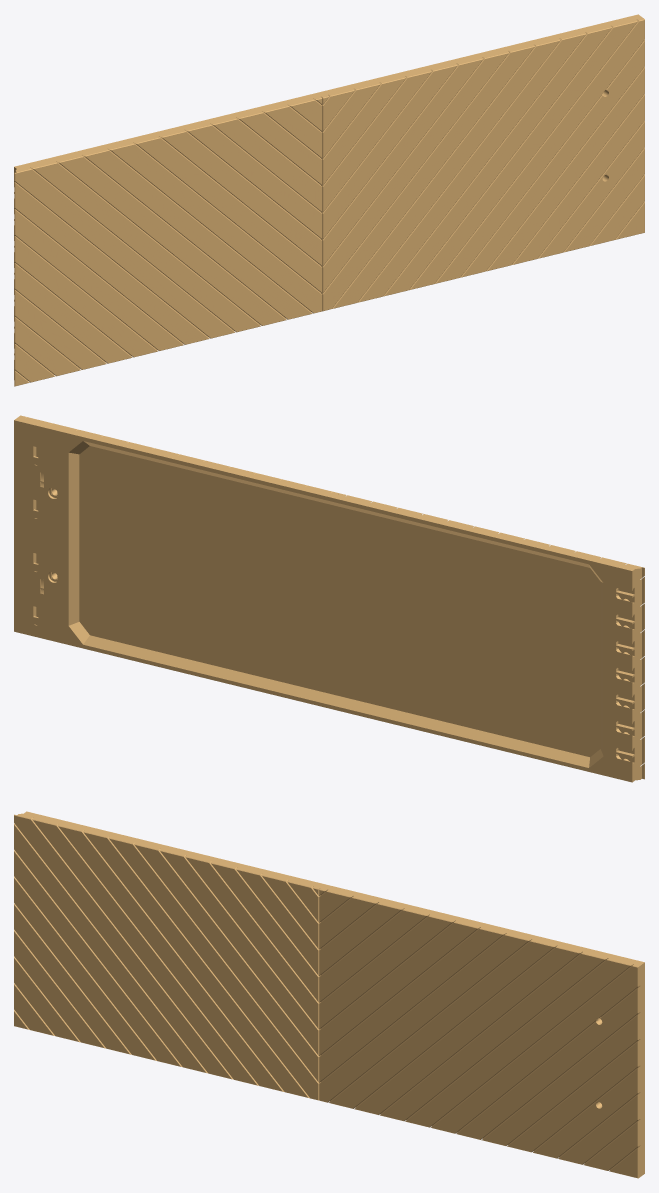
Rendered from Door_Chevron_4W-2H.lib.glb.
The picture shows the model from 3 angles, top to bottom: view 1: azimuth 30°, elevation 25°; view 2: azimuth 150°, elevation 25°; view 3: azimuth 330°, elevation 25°; orthographic projection.
Parts seen in each view (by area): view 1: Door_Chevron_4W-2H; view 2: Door_Chevron_4W-2H; view 3: Door_Chevron_4W-2H.
Part boxes in pixels (left/top/right/bottom): Door_Chevron_4W-2H: left=14, top=14, right=644, bottom=386; Door_Chevron_4W-2H: left=14, top=415, right=644, bottom=782; Door_Chevron_4W-2H: left=14, top=811, right=644, bottom=1178.
Bounding box in the file's own units: 343 × 111 × 6.49.
